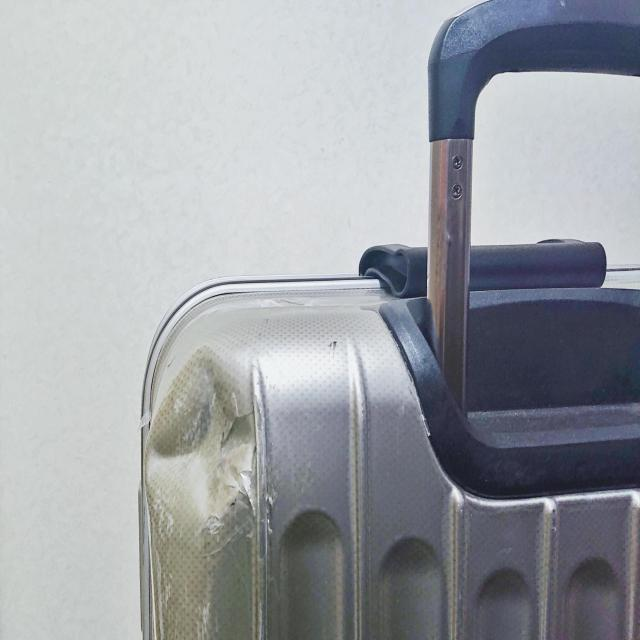Damage-bag: (145, 347, 272, 579)
